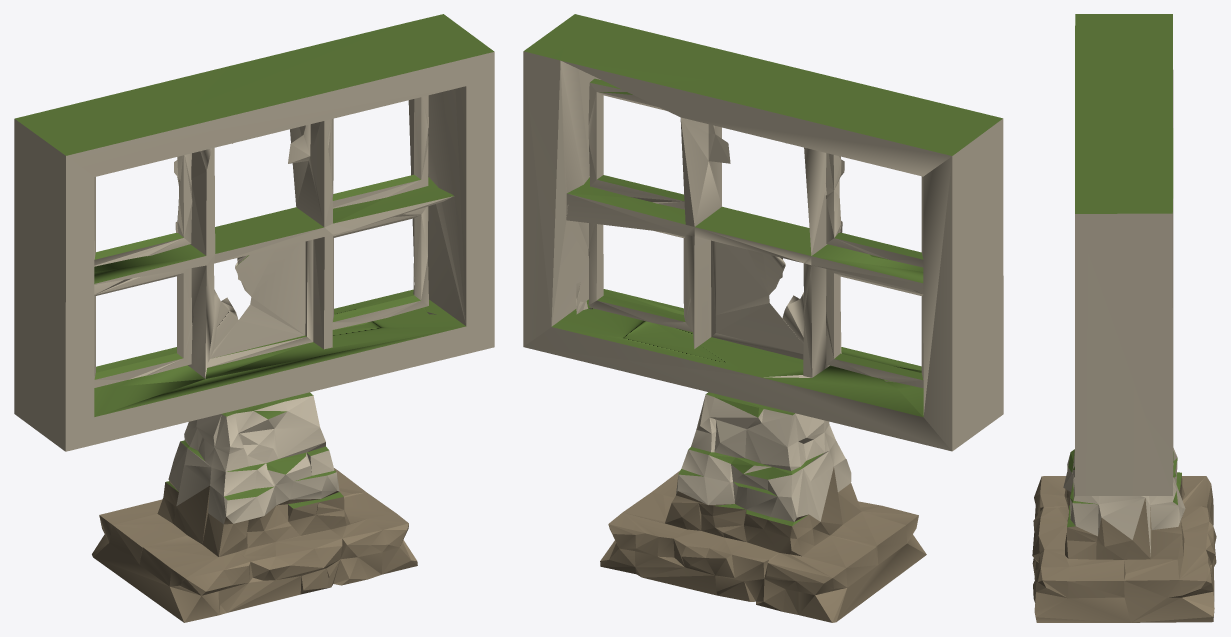
The model's file is ruin-solarframe.glb.
3 renders of one model, left to right at view 1: azimuth 30°, elevation 25°; view 2: azimuth 150°, elevation 25°; view 3: azimuth 270°, elevation 25°, orthographic. The views are drawn at different scales.
Visible parts, largest first — view 1: ruin-solarframe; view 2: ruin-solarframe; view 3: ruin-solarframe.
Part boxes in pixels (<box>): ruin-solarframe: <box>14,14,494,622</box>; ruin-solarframe: <box>523,14,1003,622</box>; ruin-solarframe: <box>1032,14,1216,622</box>.
Bounding box in the file's own units: 16.97 × 18 × 6.61.
